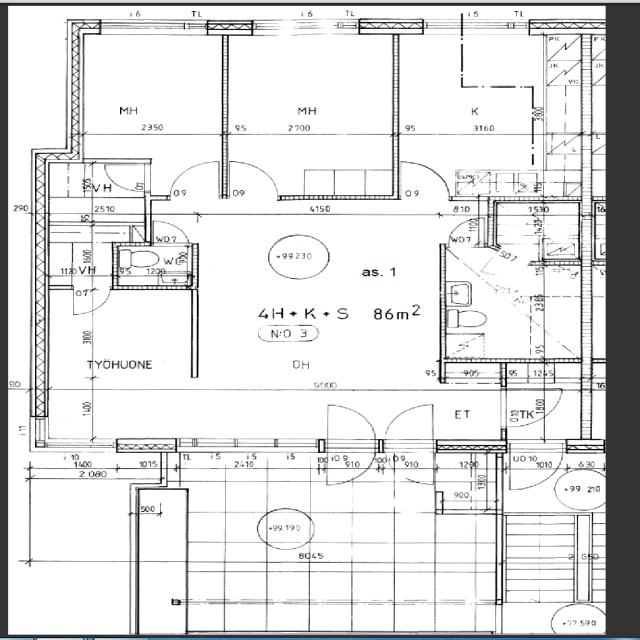door: (510, 439, 562, 489), (326, 439, 377, 488), (326, 403, 377, 452), (383, 439, 432, 487), (383, 404, 432, 452), (482, 246, 534, 285), (501, 391, 557, 426), (401, 162, 449, 200), (170, 162, 218, 200), (230, 162, 278, 200), (109, 165, 151, 191), (74, 284, 109, 314), (448, 218, 483, 247), (154, 218, 187, 245)
